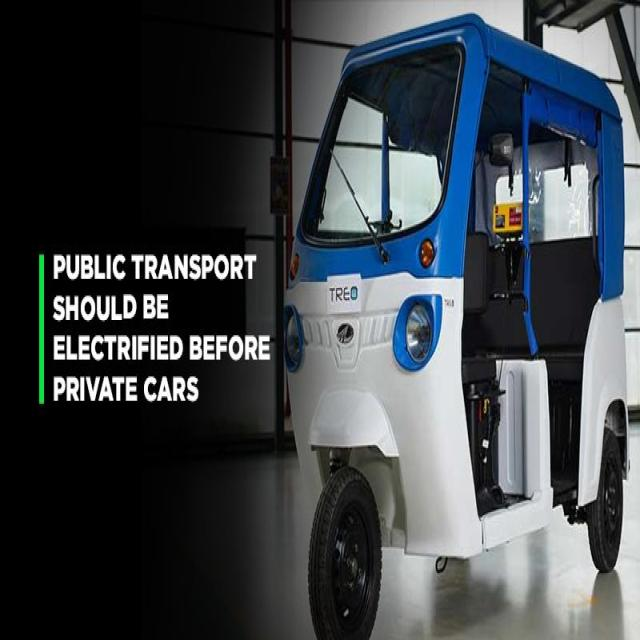autorickshaw: (285, 14, 630, 637)
